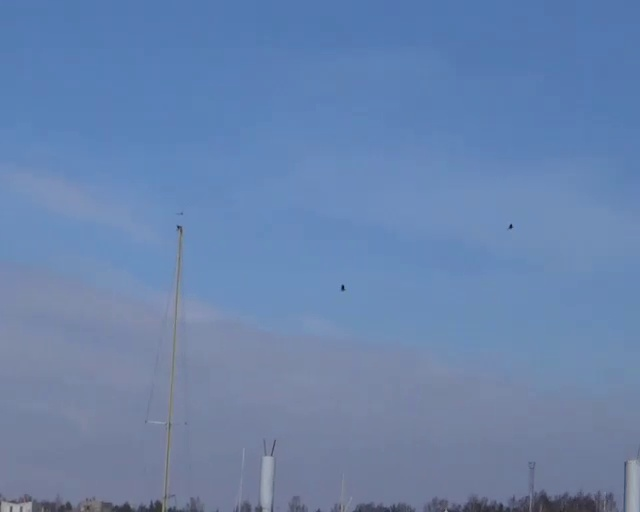BIRD: (507, 223, 514, 229)
